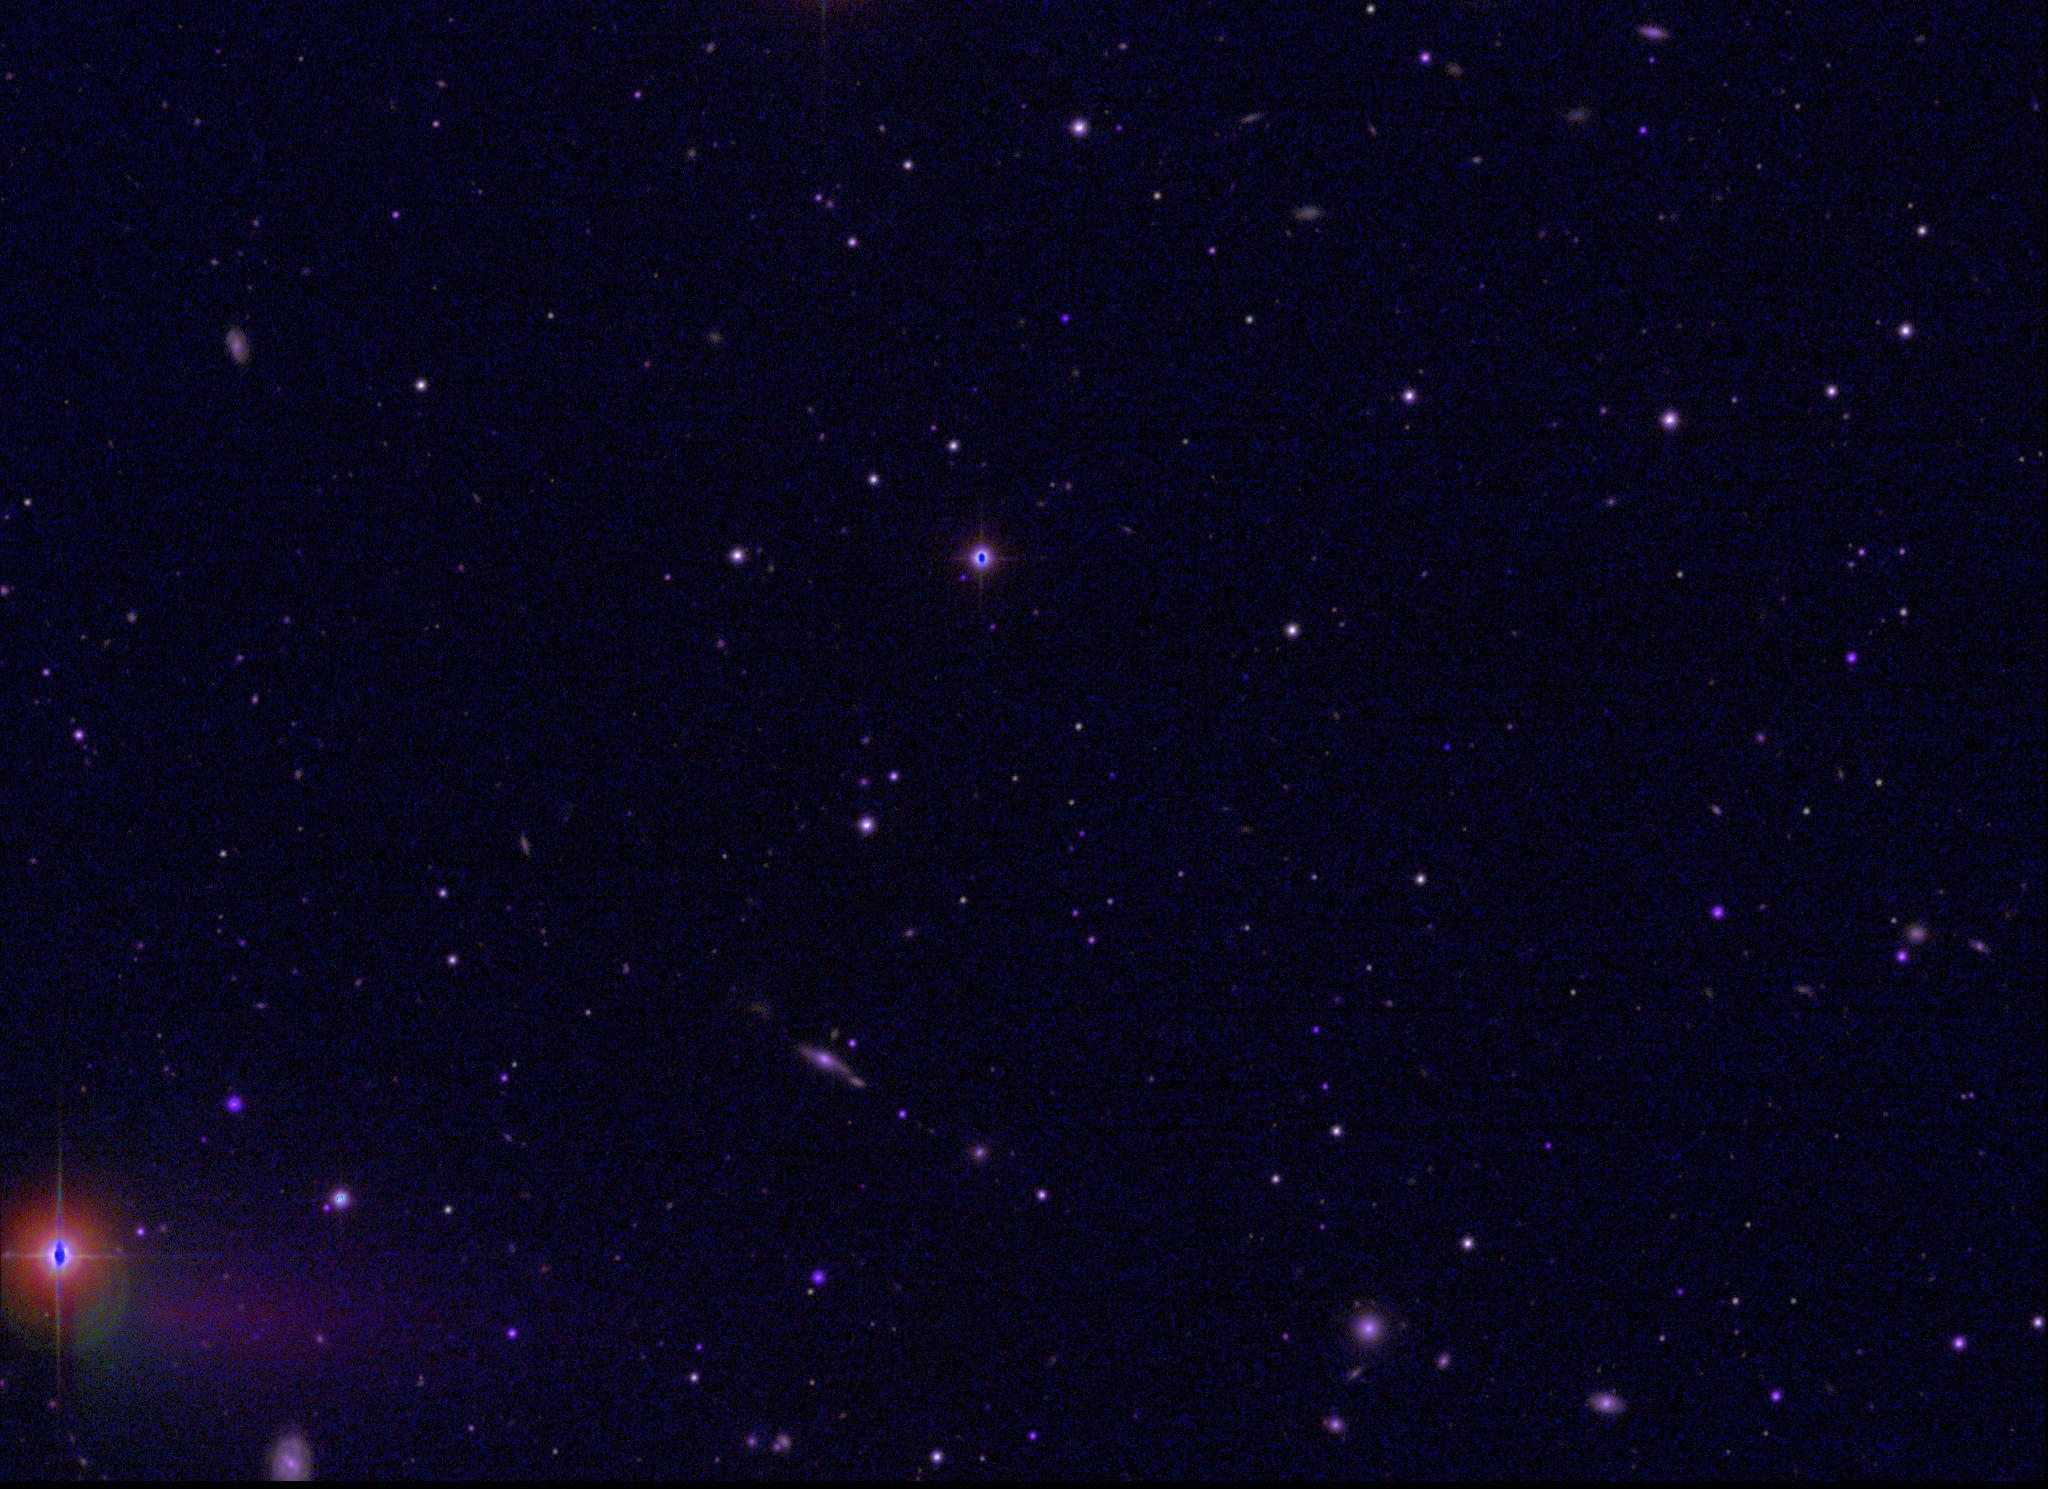L: (1441, 740, 1455, 754)
